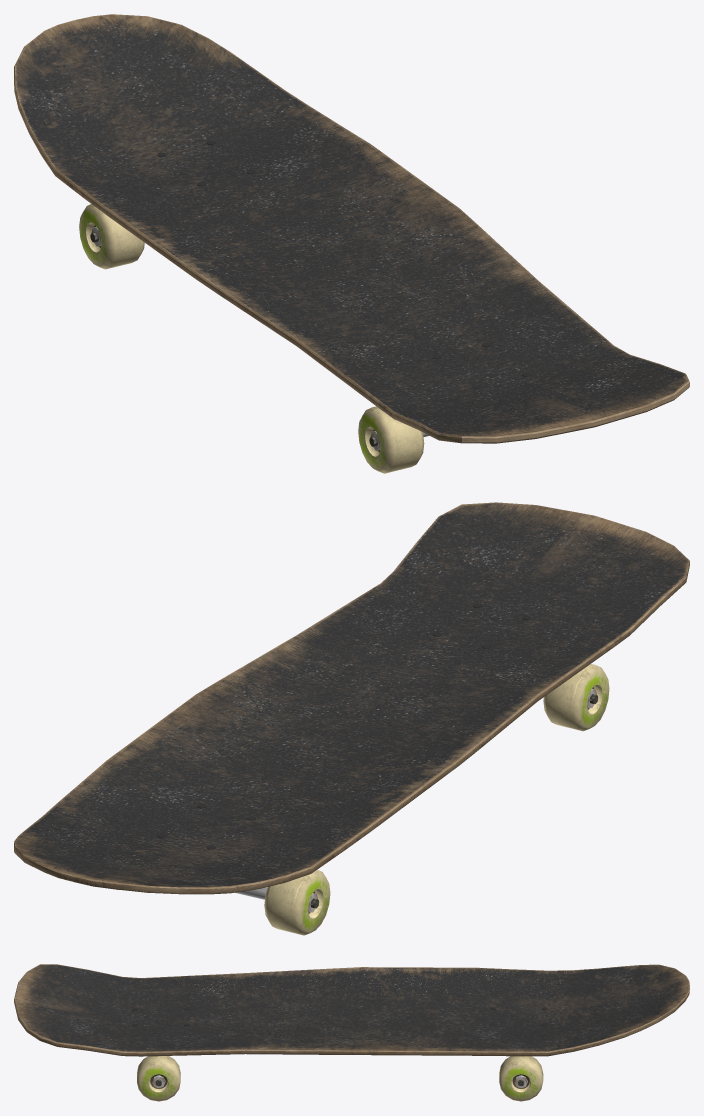
3 renders of one model, top to bottom at view 1: azimuth 30°, elevation 25°; view 2: azimuth 150°, elevation 25°; view 3: azimuth 270°, elevation 25°, orthographic. The views are drawn at different scales.
Parts seen in each view (by area): view 1: deck_low002, Cylinder003, Cylinder001; view 2: deck_low002, Cylinder001, Cylinder003; view 3: deck_low002, Cylinder004, Cylinder002.
Part boxes in pixels (bbox=[...]): deck_low002: bbox=[14, 14, 689, 443]; Cylinder003: bbox=[358, 406, 424, 473]; Cylinder001: bbox=[79, 204, 144, 269]; deck_low002: bbox=[14, 502, 689, 894]; Cylinder001: bbox=[264, 869, 330, 935]; Cylinder003: bbox=[543, 664, 609, 731]; deck_low002: bbox=[14, 964, 689, 1056]; Cylinder004: bbox=[499, 1056, 543, 1101]; Cylinder002: bbox=[137, 1056, 180, 1101].
Bounding box in the file's own units: 39.38 × 17.9 × 133.
